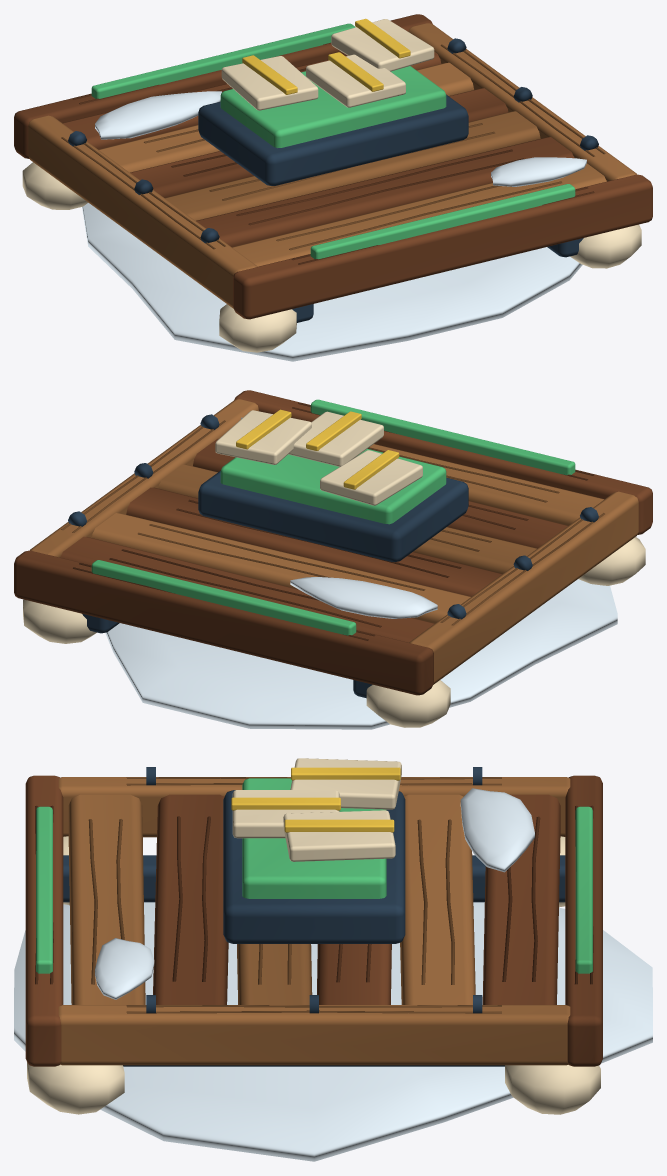
File: pad_payment.glb
The picture shows the model from 3 angles, top to bottom: view 1: azimuth 30°, elevation 25°; view 2: azimuth 150°, elevation 25°; view 3: azimuth 270°, elevation 25°; orthographic projection. The views are drawn at different scales.
Parts seen in each view (by area): view 1: pad_payment; view 2: pad_payment; view 3: pad_payment.
Boxes of the visible parts, x1=… form: pad_payment: x1=14, y1=14, x2=652, y2=361; pad_payment: x1=14, y1=390, x2=652, y2=729; pad_payment: x1=14, y1=758, x2=652, y2=1161.
Bounding box in the file's own units: 2.14 × 0.8625 × 2.04.
